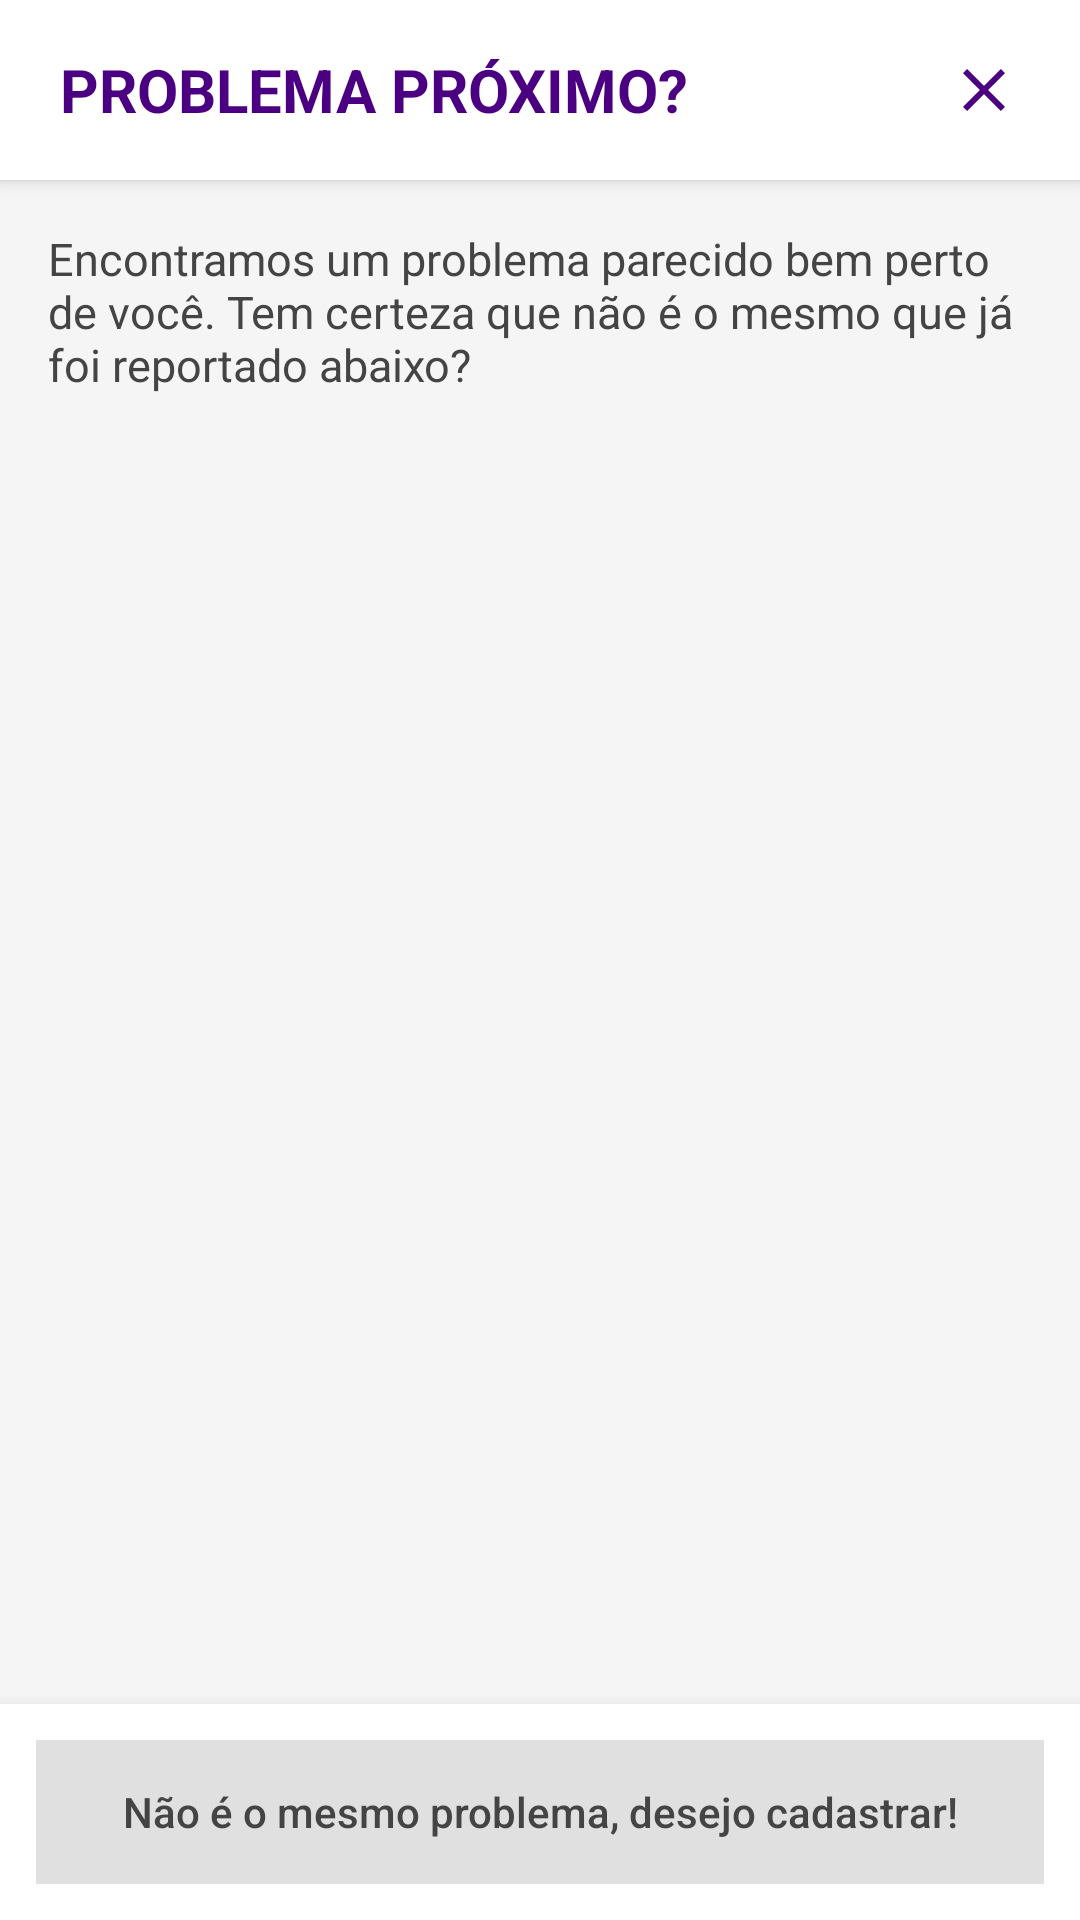

Icon click points for this 1080×1920 phone screenshot, format (x=x, y=y):
fechar: (x=984, y=90)
